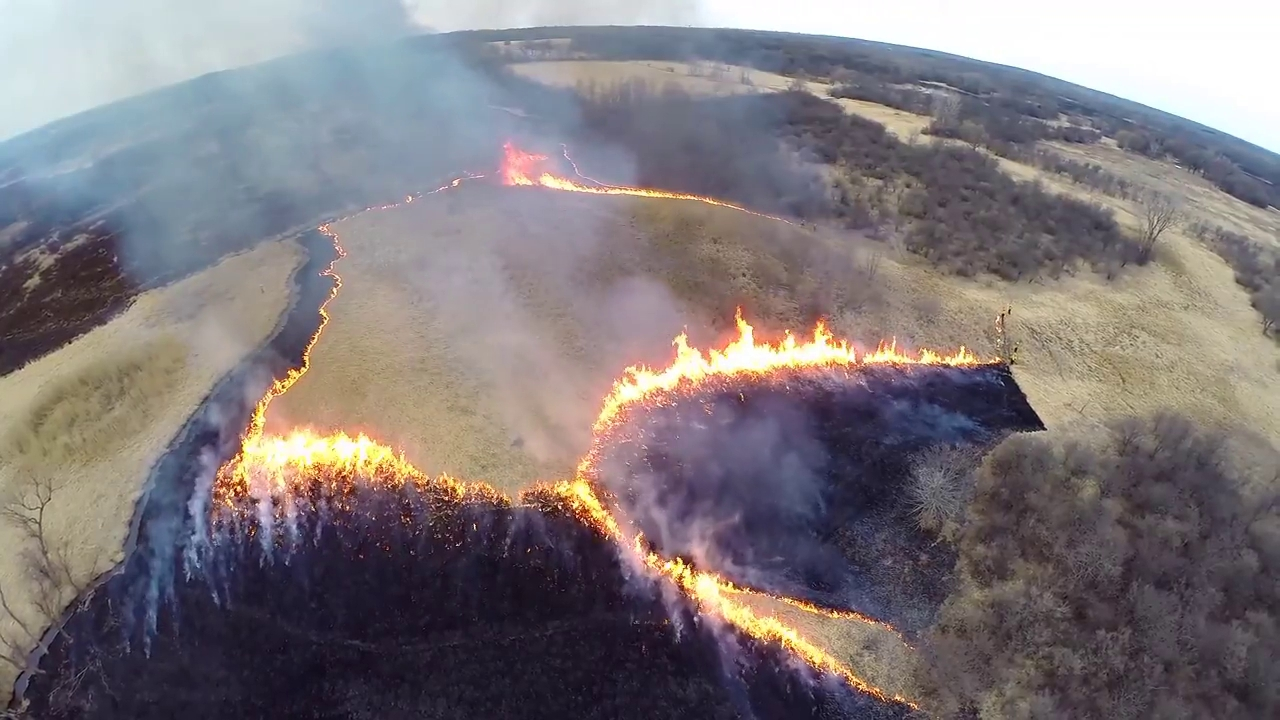forest_fire: (529, 453, 913, 706), (211, 300, 527, 510), (593, 313, 993, 433), (488, 142, 750, 211), (775, 596, 880, 623), (320, 226, 344, 299), (432, 175, 483, 191), (362, 204, 394, 211), (405, 195, 414, 201), (885, 625, 887, 626)
